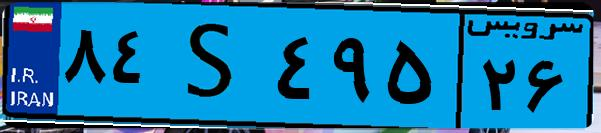2: (475, 38, 525, 113)
4: (270, 28, 330, 110), (110, 28, 158, 98)
5: (385, 28, 445, 110)
6: (525, 38, 570, 115)
8: (57, 26, 110, 100)
9: (330, 28, 385, 110)
S: (158, 12, 270, 120)
